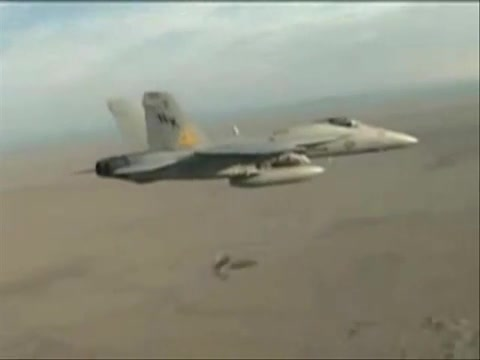aeroplane: (75, 92, 422, 189)
